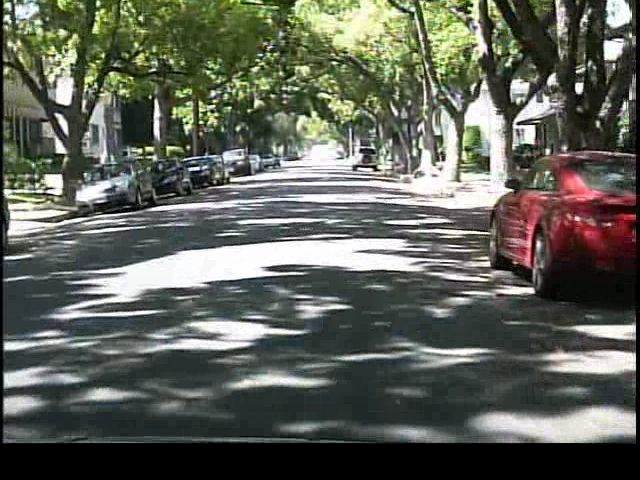person: (96, 143, 119, 195)
